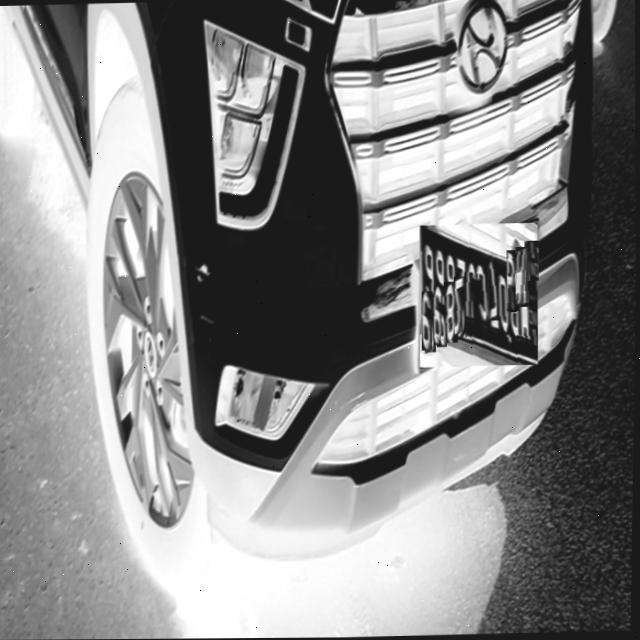0: (494, 256, 508, 317)
2: (454, 277, 466, 336)
6: (421, 291, 434, 351), (433, 286, 445, 345)
7: (486, 260, 498, 320)
8: (444, 282, 456, 341)
C: (475, 266, 487, 324)
IND: (524, 241, 540, 281)
Indian_registered: (420, 228, 539, 365)
J: (464, 273, 475, 331)
M: (515, 247, 528, 307)
P: (506, 250, 518, 312)
